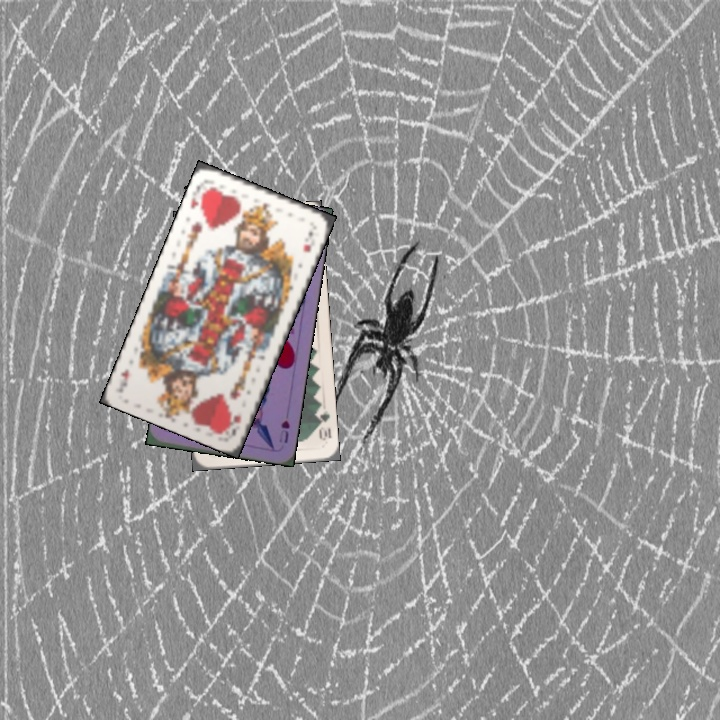G10: (312, 405, 333, 443)
HK: (186, 179, 213, 212), (223, 410, 244, 439)
HU: (275, 416, 292, 445)
